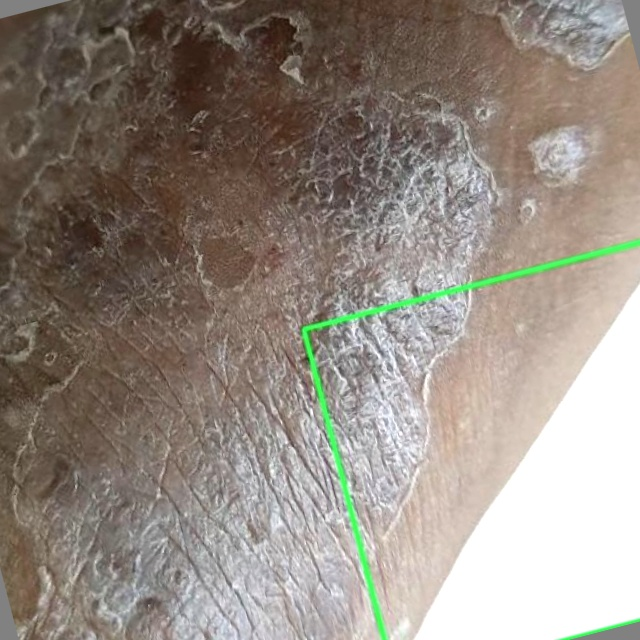Contact Dermatitis: (304, 242, 639, 639)
